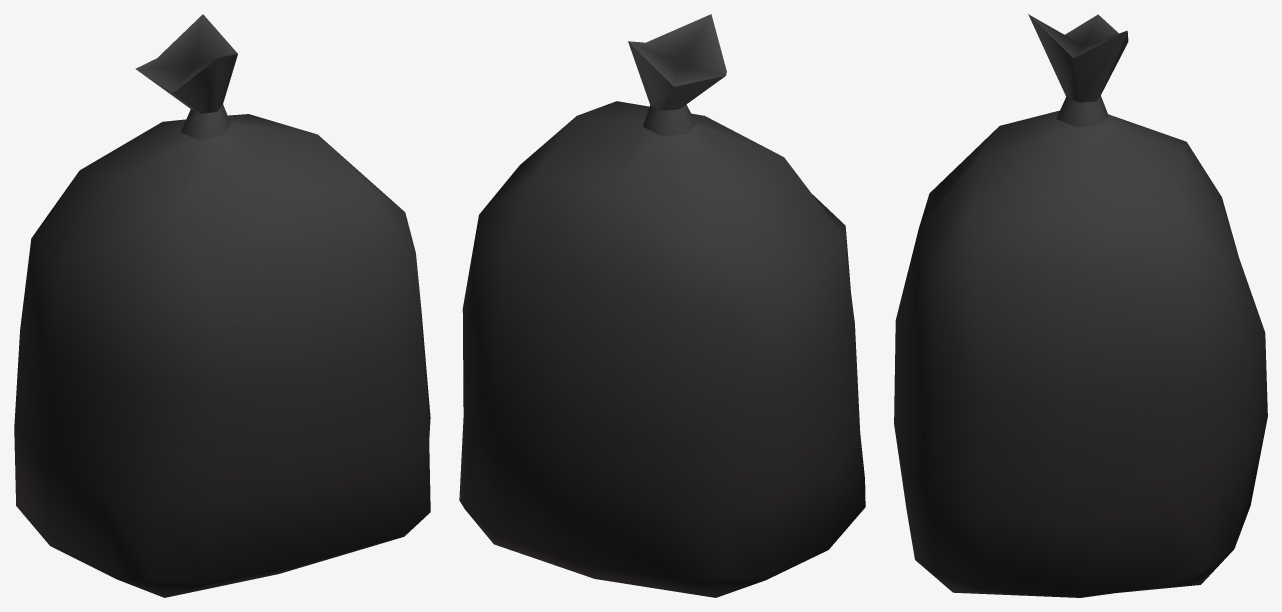
The model's file is Trash_bag_001.fbx.
3 renders of one model, left to right at view 1: azimuth 30°, elevation 25°; view 2: azimuth 150°, elevation 25°; view 3: azimuth 270°, elevation 25°, orthographic. The views are drawn at different scales.
Parts seen in each view (by area): view 1: Trash_bag_001; view 2: Trash_bag_001; view 3: Trash_bag_001.
Part boxes in pixels (box(x1,y1,x2,y2)): Trash_bag_001: box(14, 14, 430, 597); Trash_bag_001: box(459, 14, 865, 597); Trash_bag_001: box(894, 14, 1267, 597).
Bounding box in the file's own units: 29.41 × 26.51 × 39.98.
